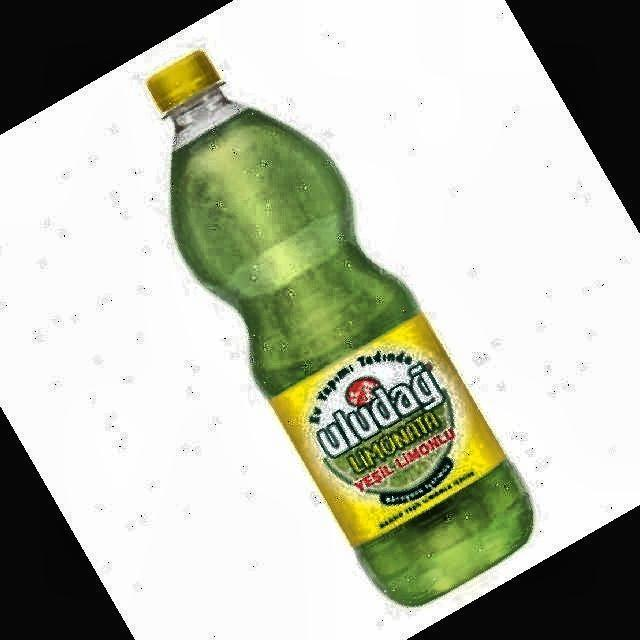plastic: (148, 50, 534, 606)
